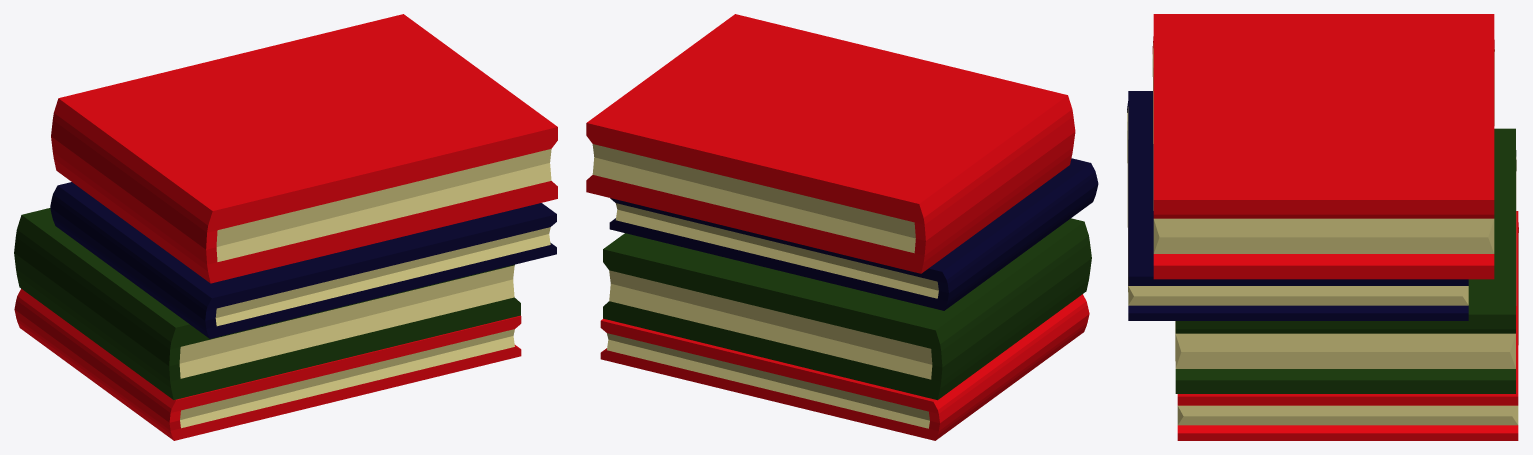
The model's file is Pile_Livres.fbx.
The picture shows the model from 3 angles, left to right: view 1: azimuth 30°, elevation 25°; view 2: azimuth 150°, elevation 25°; view 3: azimuth 270°, elevation 25°; orthographic projection. The views are drawn at different scales.
Parts seen in each view (by area): view 1: Cube.002, Cube.001, Cube; view 2: Cube.002, Cube, Cube.001; view 3: Cube.002, Cube.001, Cube.
Part boxes in pixels (box(x1,y1,x2,y2)): Cube.002: box(14, 14, 557, 399); Cube.001: box(50, 182, 556, 338); Cube: box(14, 288, 521, 440); Cube.002: box(586, 14, 1091, 400); Cube: box(600, 294, 1089, 440); Cube.001: box(609, 158, 1098, 310); Cube.002: box(1152, 14, 1516, 393); Cube.001: box(1127, 91, 1468, 320); Cube: box(1177, 211, 1518, 440).
Size of the model in its own units: 284 by 165 by 230.
